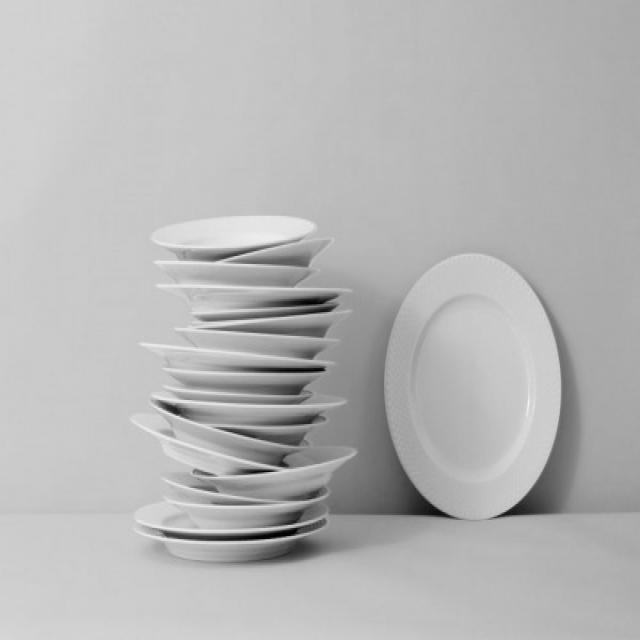dish: (363, 202, 588, 564)
